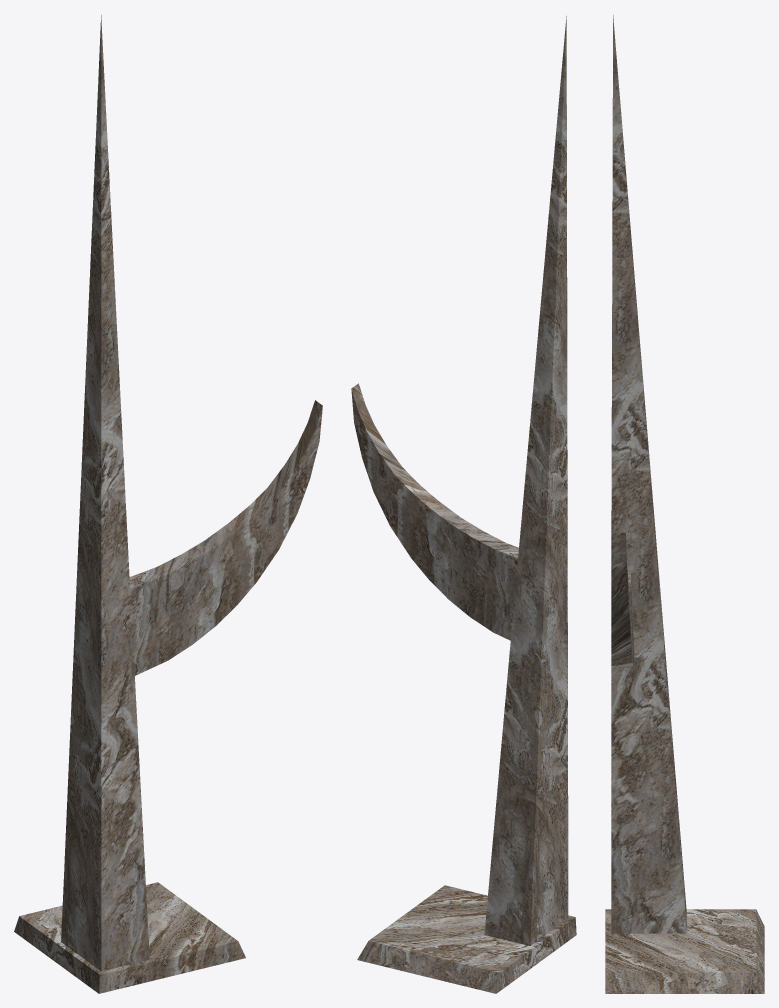
The model's file is frn_quest_fs_sculpture_3_l1.fbx.
3 renders of one model, left to right at view 1: azimuth 30°, elevation 25°; view 2: azimuth 150°, elevation 25°; view 3: azimuth 270°, elevation 25°, orthographic. The views are drawn at different scales.
Visible parts, largest first — view 1: mesh_node; view 2: mesh_node; view 3: mesh_node.
Boxes of the visible parts, x1,y1,x2,y2 form: mesh_node: (14, 15, 322, 993); mesh_node: (351, 16, 576, 993); mesh_node: (605, 15, 764, 993).
Size of the model in its own units: 0.6172 by 2.53 by 0.4.
